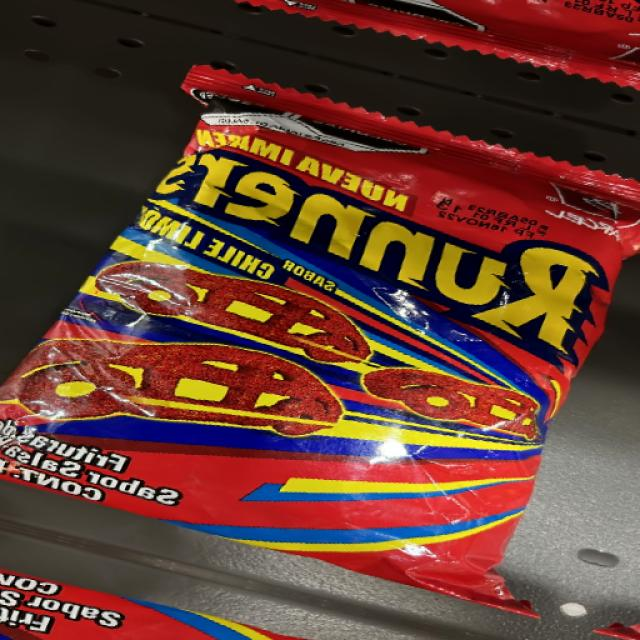runners: (106, 138, 617, 563)
